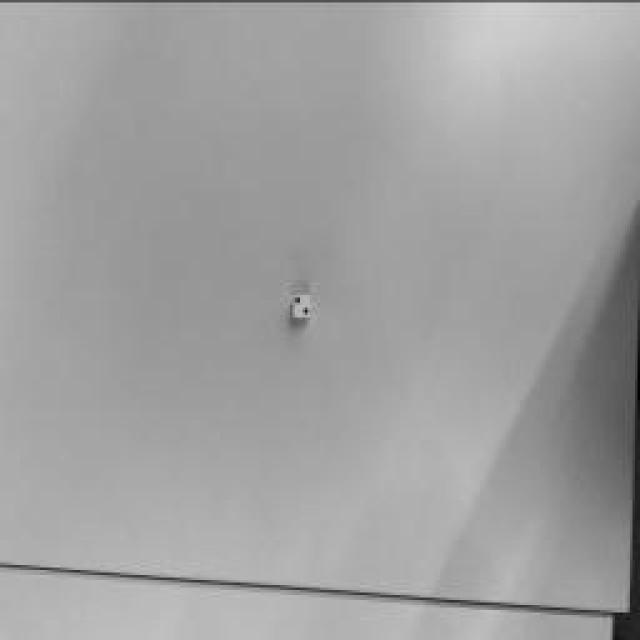dice_2: (294, 294, 311, 316)
